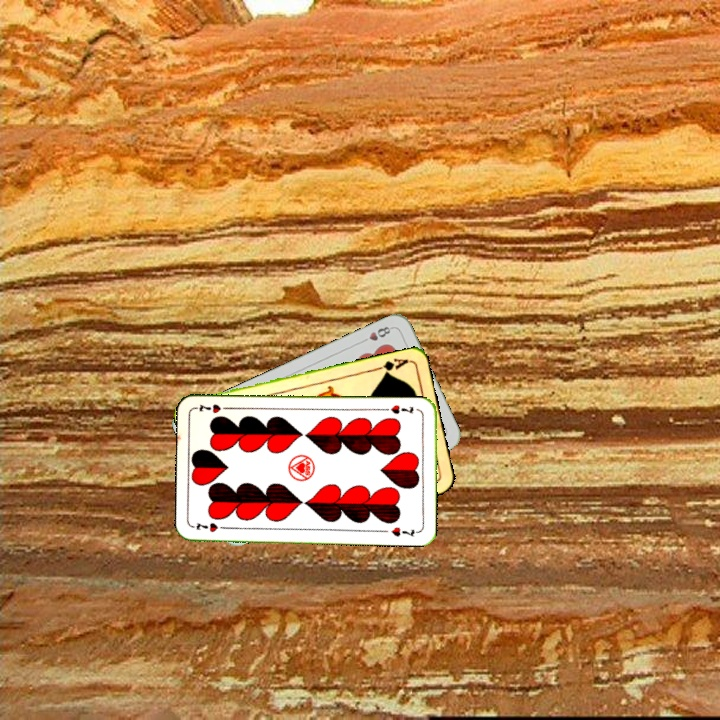GA: (372, 354, 412, 378)
H7: (192, 519, 231, 535), (387, 401, 416, 416)
H8: (357, 322, 395, 346)
